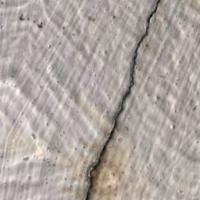crack: (73, 4, 166, 198)
